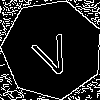V: (27, 24, 76, 80)
